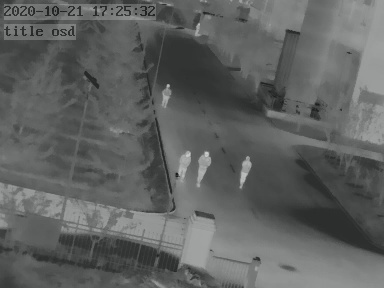person: (195, 148, 210, 186), (176, 150, 191, 184), (239, 152, 252, 189), (161, 81, 171, 107), (194, 21, 201, 36)
